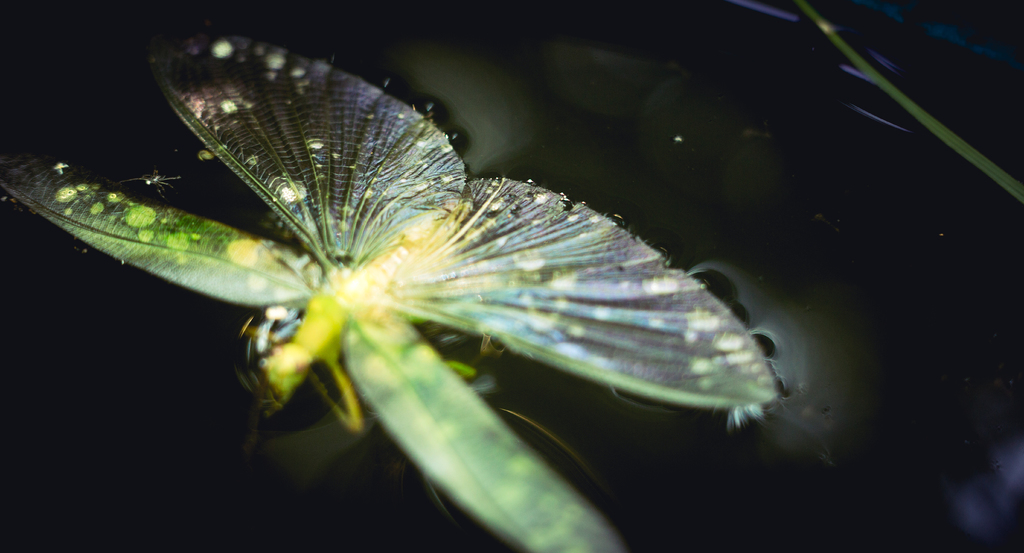Butterfly: (9, 13, 766, 508)
